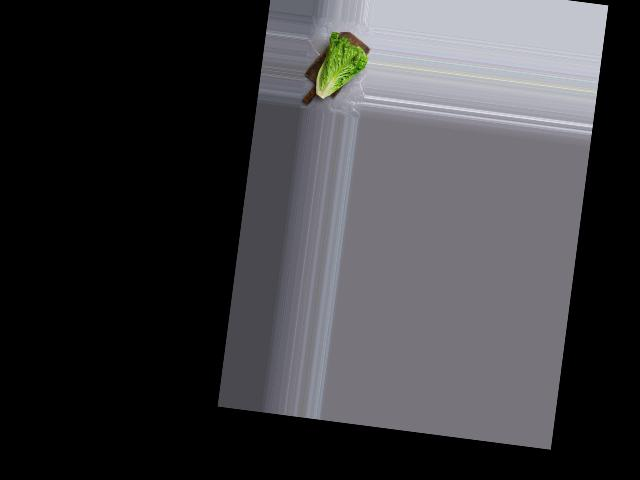lettuce: (306, 29, 370, 106)
